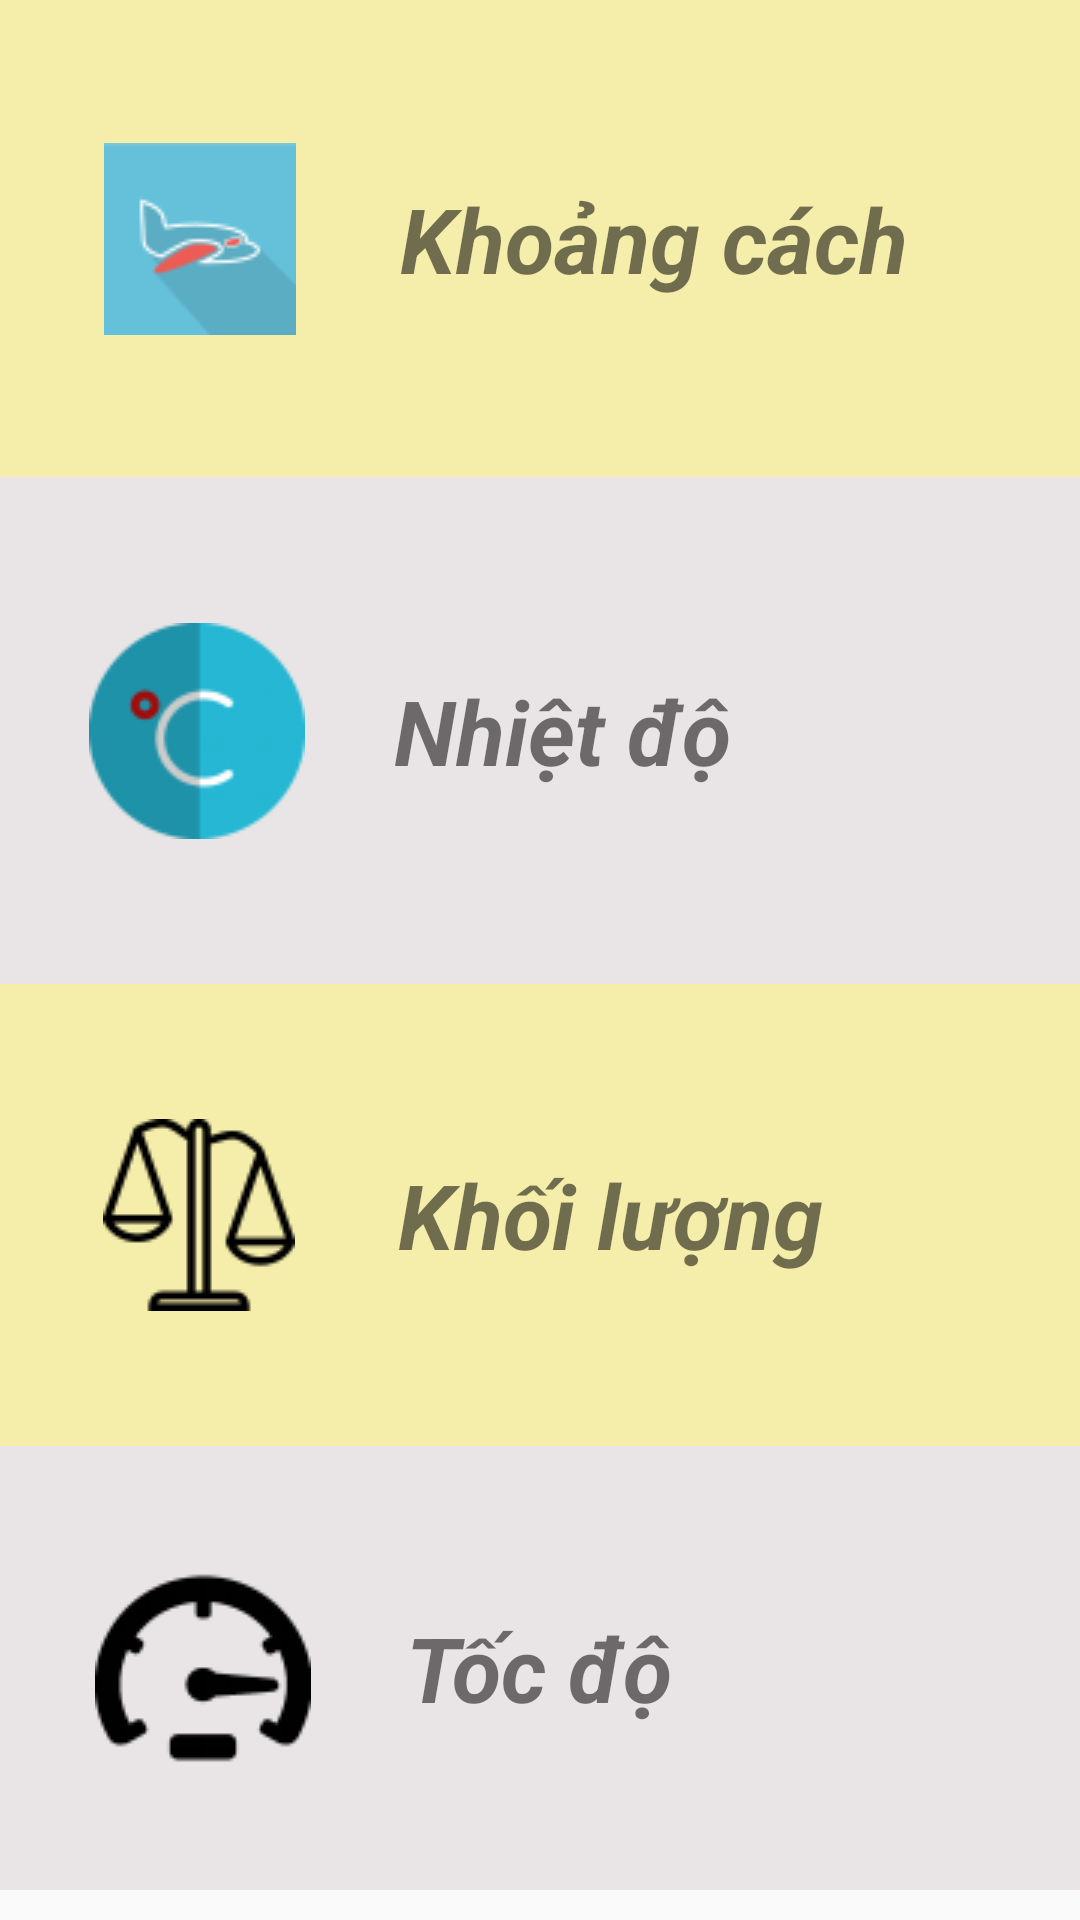

Screen size 1080 x 1920. Icon name, then its box in pixels as box=[x1, y1, x2, y2]:
distanceicon: box=[104, 143, 296, 335]
scaleicon: box=[103, 1119, 295, 1311]
speedicon: box=[95, 1574, 311, 1762]
temperatureicon: box=[89, 623, 305, 839]
